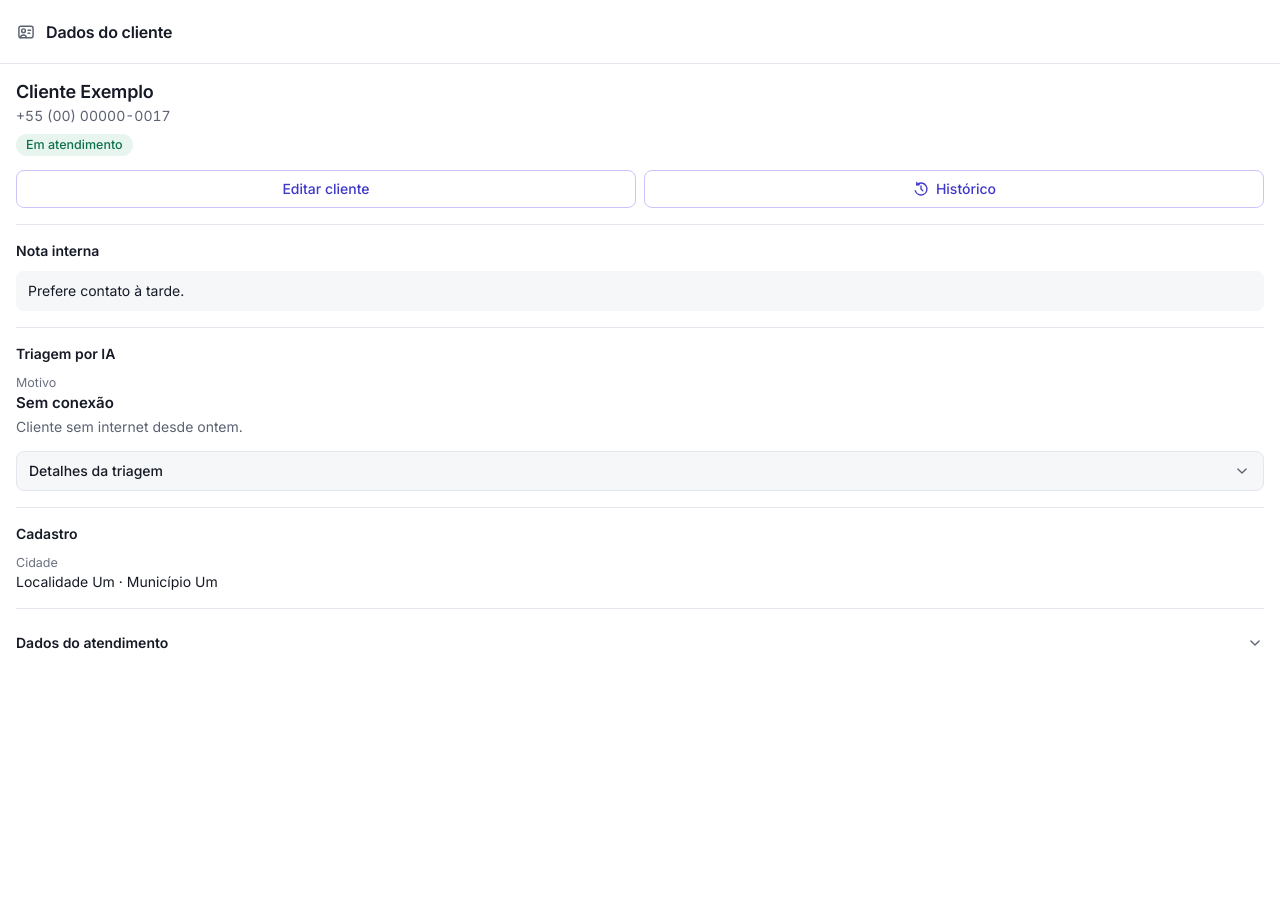
it: PainelDadosCliente — triagem › motivo e resumo sempre à vista; o resto só em "Detalhes da triagem"
Expected: the text "Sem conexão" is shown, [16,393,114,412]
Expected: the text "Cliente sem internet desde ontem." is shown, [16,418,243,435]
Click the button "Detalhes da triagem" at [96, 470], box [16,451,1264,491]
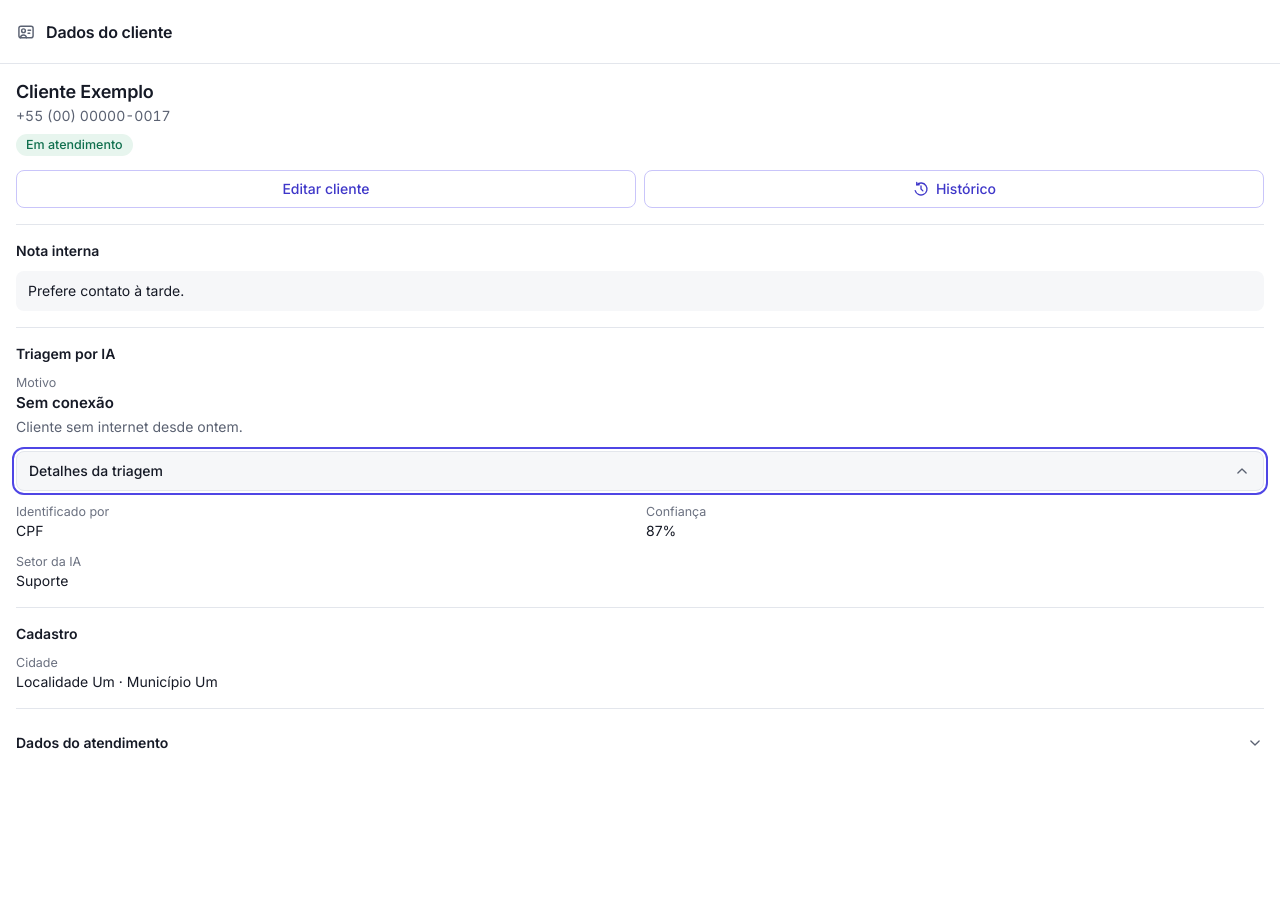
Result: the button "Detalhes da triagem" is expanded at [16,451,1264,491]
Result: the text "Identificado por" is shown at [16,504,109,519]
Result: the text "CPF" is shown at [16,522,43,539]
